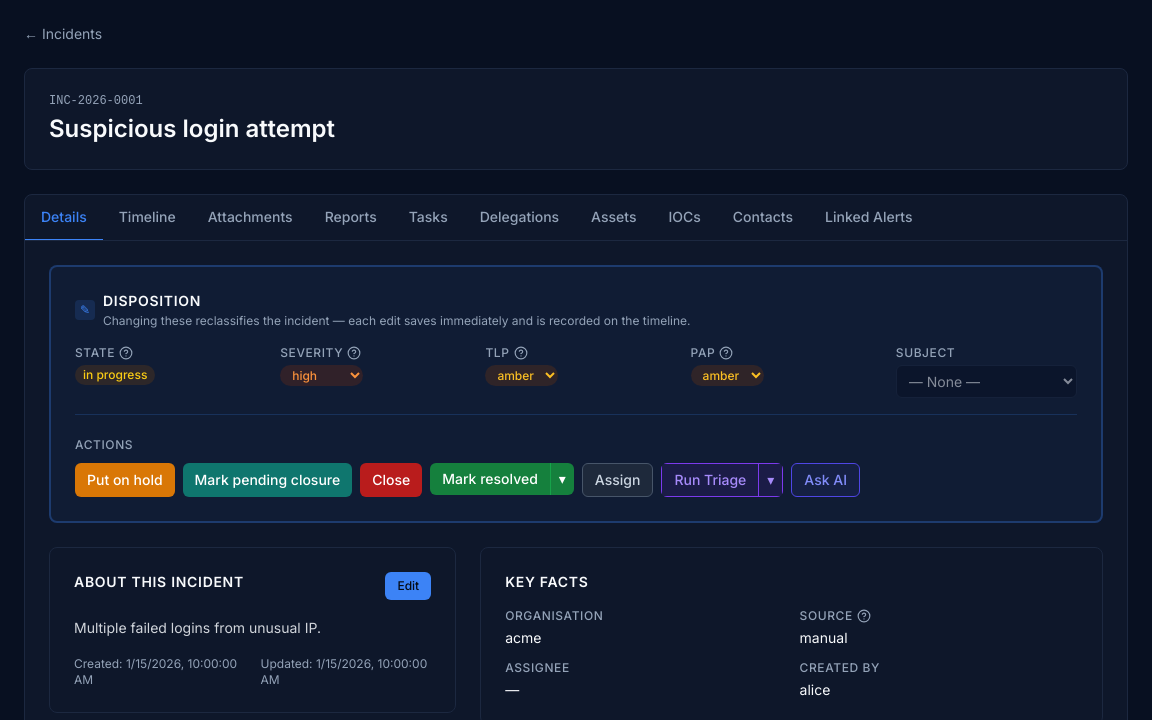
Test: IncidentDetail › clicking dropdown chevron reveals Resolved and Needs tuning options
Click the button named "More resolution options": (562, 479) [550, 463, 574, 495]
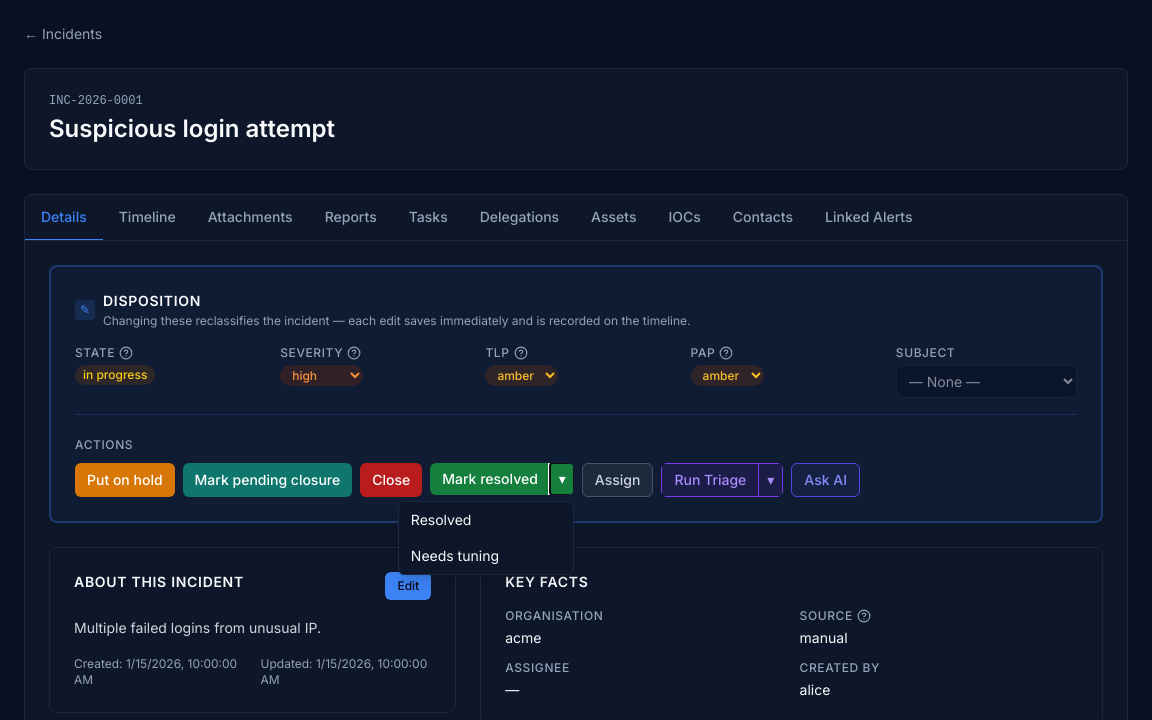
Result: the button "Needs tuning" is shown at [399, 538, 573, 574]
